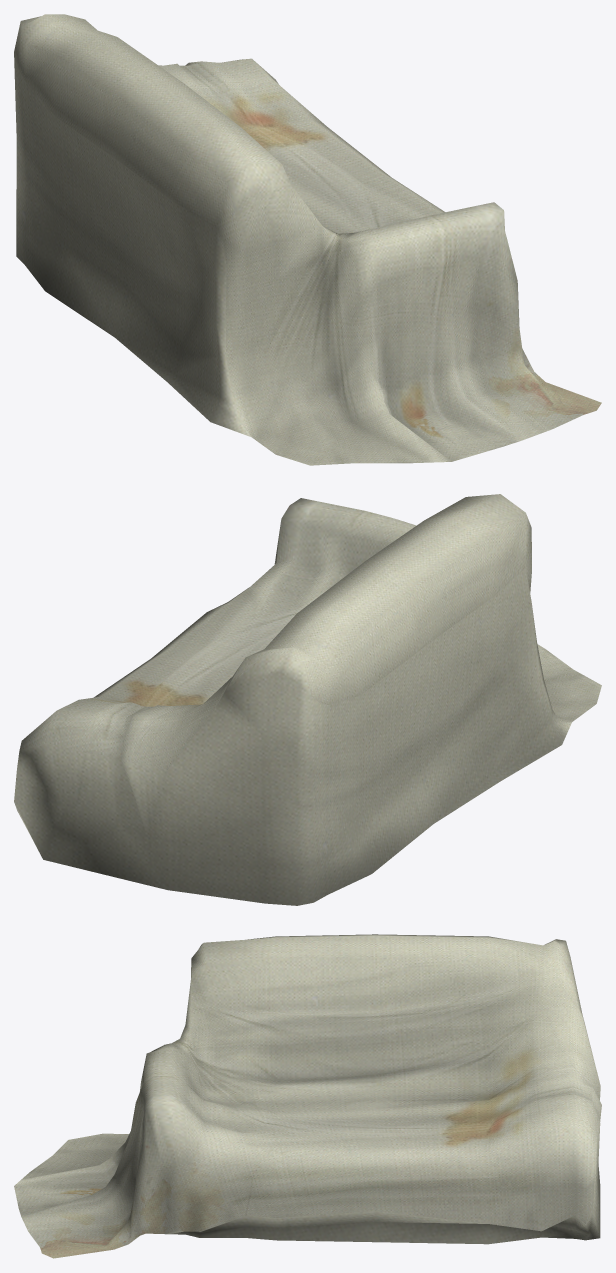
File: M_Home_Garden_Couch06.fbx
The picture shows the model from 3 angles, top to bottom: view 1: azimuth 30°, elevation 25°; view 2: azimuth 150°, elevation 25°; view 3: azimuth 270°, elevation 25°; orthographic projection. The views are drawn at different scales.
Visible parts, largest first — view 1: M_Home_Garden_Couch06; view 2: M_Home_Garden_Couch06; view 3: M_Home_Garden_Couch06.
Boxes of the visible parts, bbox=[...] form: M_Home_Garden_Couch06: bbox=[14, 14, 601, 465]; M_Home_Garden_Couch06: bbox=[14, 494, 601, 905]; M_Home_Garden_Couch06: bbox=[14, 934, 601, 1258].
Bounding box in the file's own units: 146 × 111 × 277.
